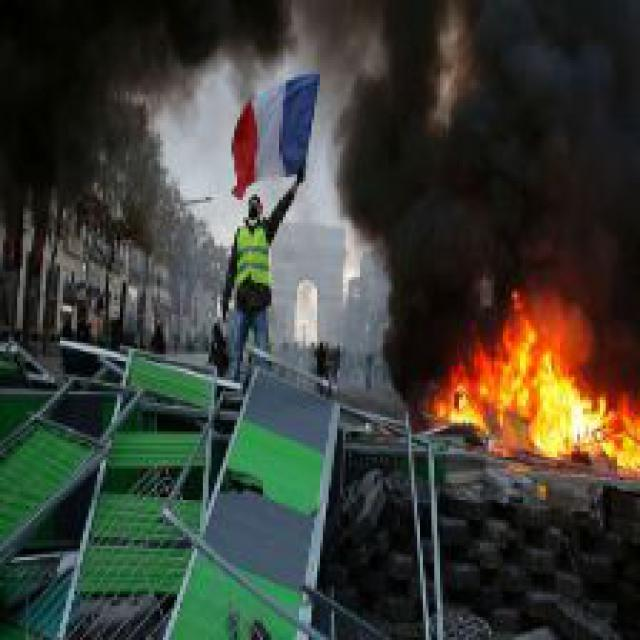fire: (423, 274, 637, 477)
